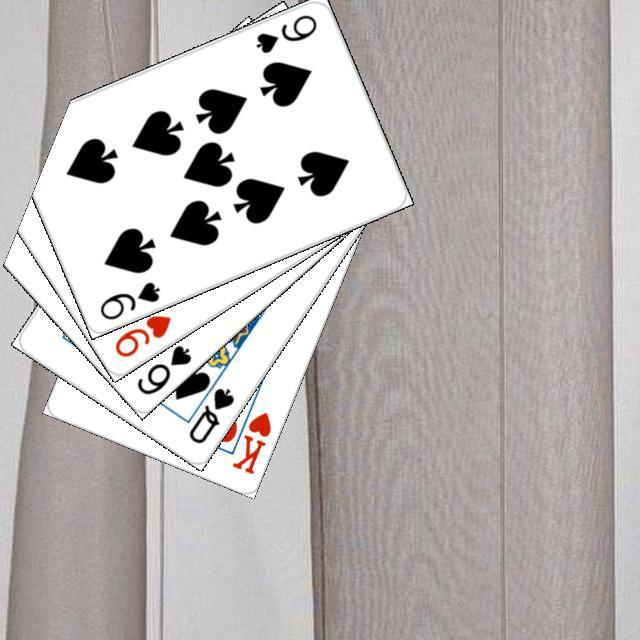6s: (131, 340, 194, 397)
9h: (109, 310, 173, 359)
9s: (251, 9, 319, 55), (95, 276, 162, 322)
Kh: (222, 395, 273, 476)
Qs: (183, 382, 236, 446)
